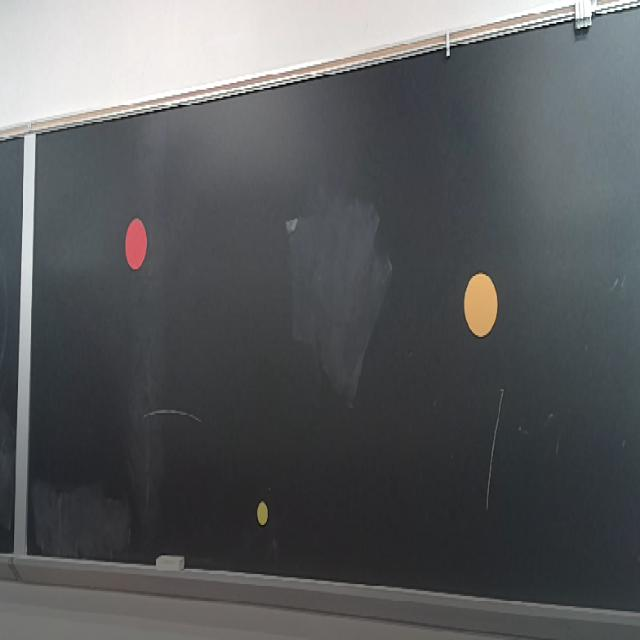Orange: (464, 272, 498, 337)
Red: (124, 219, 148, 270)
Yellow: (257, 501, 268, 526)
